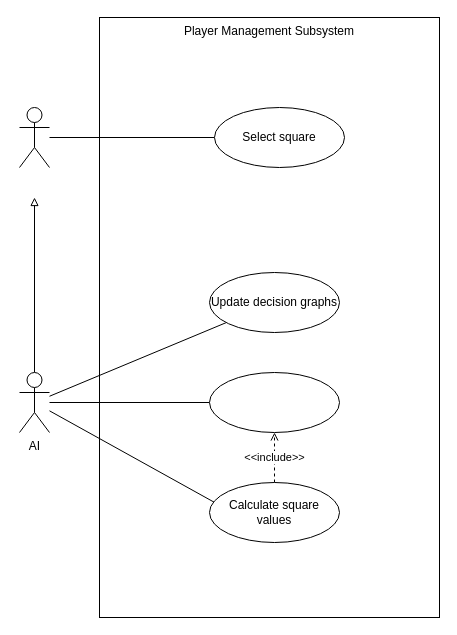
Image size: 457x635. Some labels were removed from this diagram. The box of each missing label's shape, as (x1, y1, x2, y2) in pixels:
Player: (18, 106, 50, 168)
Search decision graphs: (208, 372, 340, 432)
